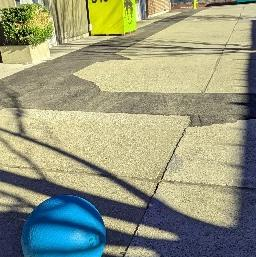algae: (18, 192, 107, 257)
